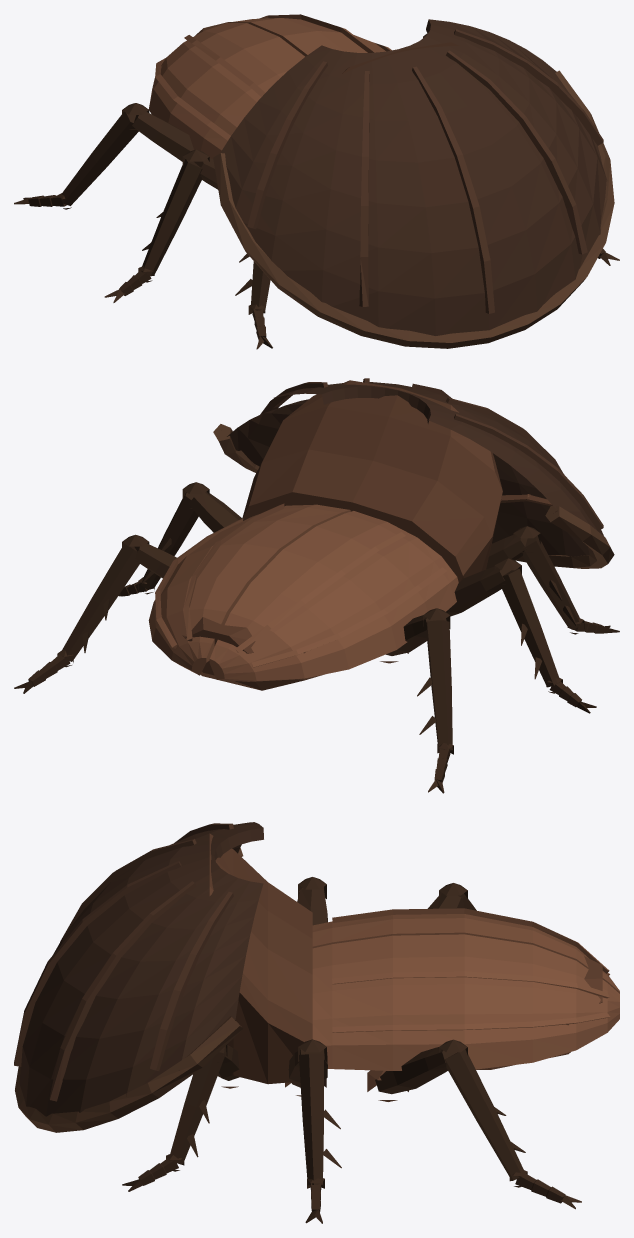
The model's file is shield_bearer.glb.
3 renders of one model, top to bottom at view 1: azimuth 30°, elevation 25°; view 2: azimuth 150°, elevation 25°; view 3: azimuth 270°, elevation 25°, orthographic. The views are drawn at different scales.
Visible parts, largest first — view 1: BeetlePlate_shield, BeetlePlate_01, shield_rib, shield_rim, BeetlePlate_00, Tibia003, Tibia005, Femur005, Tibia001; view 2: ThoraxCore, BeetlePlate_01, BeetlePlate_00, BeetlePlate_shield, shield_rib, shield_rim, Tibia005, Tibia004, Tibia003, Tibia001, BeetleBodyInner, Femur003 (+5 smaller); view 3: BeetlePlate_shield, BeetlePlate_00, ThoraxCore, shield_rib, BeetlePlate_01, shield_rim, Tibia004, Tibia002, Tibia000, Femur004, Femur003, Tarsus1004 (+2 smaller).
Boxes of the visible parts, x1,y1,x2,y2 form: BeetlePlate_shield: (220,19,607,335); BeetlePlate_01: (148,23,304,158); shield_rib: (247,29,603,313); shield_rim: (213,70,614,348); BeetlePlate_00: (229,14,391,56); Tibia003: (141,159,202,276); Tibia005: (60,111,138,205); Femur005: (132,112,193,161); Tibia001: (235,254,270,311); ThoraxCore: (242,380,502,582); BeetlePlate_01: (209,511,458,681); BeetlePlate_00: (148,503,350,675); BeetlePlate_shield: (227,382,603,556); shield_rib: (260,378,603,530); shield_rim: (213,424,614,568); Tibia005: (417,620,452,751); Tibia004: (61,543,140,661); Tibia003: (500,568,560,687); Tibia001: (522,535,580,629); BeetleBodyInner: (161,614,323,690); Femur003: (446,566,510,616); BeetlePlate_shield: (19,822,263,1116); BeetlePlate_00: (312,934,619,1070); ThoraxCore: (209,833,312,1084); shield_rib: (14,823,233,1101); BeetlePlate_01: (312,908,619,993); shield_rim: (15,847,243,1132); Tibia004: (445,1049,525,1180); Tibia002: (299,1054,341,1185); Tibia000: (168,1051,225,1164); Femur004: (375,1047,456,1094); Femur003: (297,888,327,925); Tarsus1004: (515,1174,565,1203).
Bounding box in the file's own units: 3.49 × 1.57 × 3.53.
